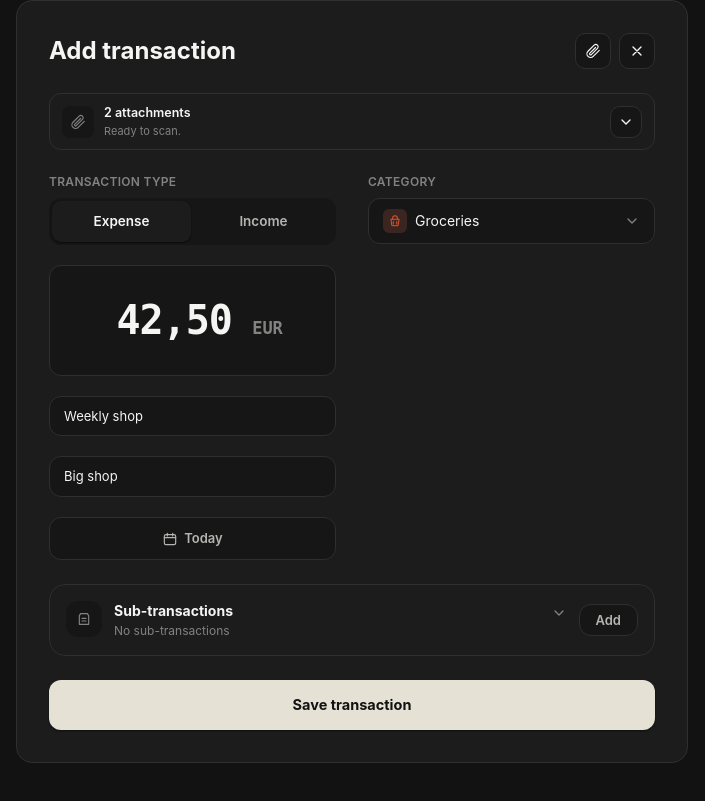
AddTransaction.desktop › renders every attachment row from props once attachment details are expanded
Click the button named "Show attachment details" at (626, 122), box [610, 106, 642, 138]
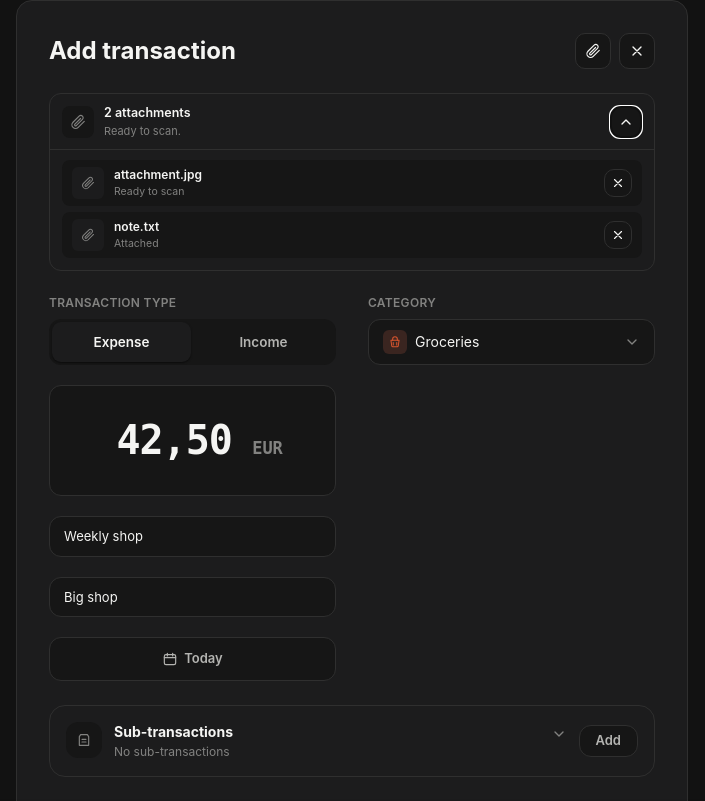
Now the text "attachment.jpg" is shown, box [114, 167, 202, 182]
Now the text "note.txt" is shown, box [114, 219, 159, 234]
Now the text "Ready to scan" is shown once, box [114, 185, 184, 198]
